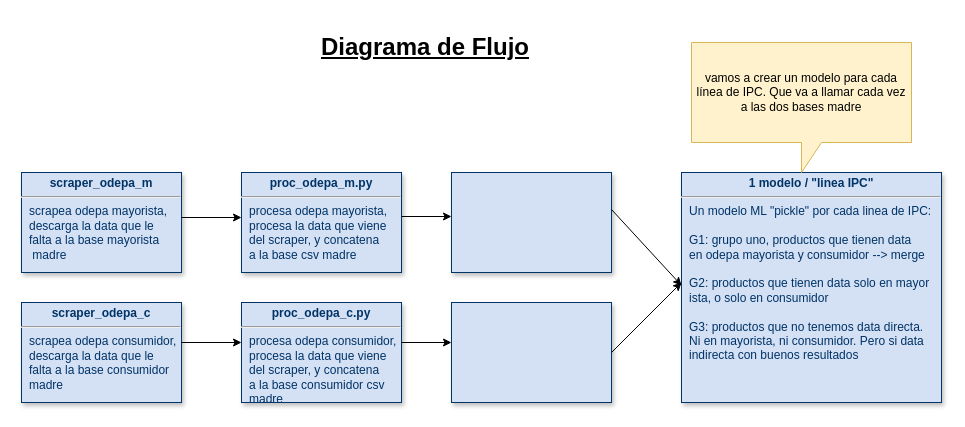
This 965x427 diagram has some shape labels left out. The centre of each missing label's shape, as x and y in pixels:
"base mayorista csv madre" goes at (x=532, y=224).
"bases consumidor csv madre" goes at (x=532, y=354).
